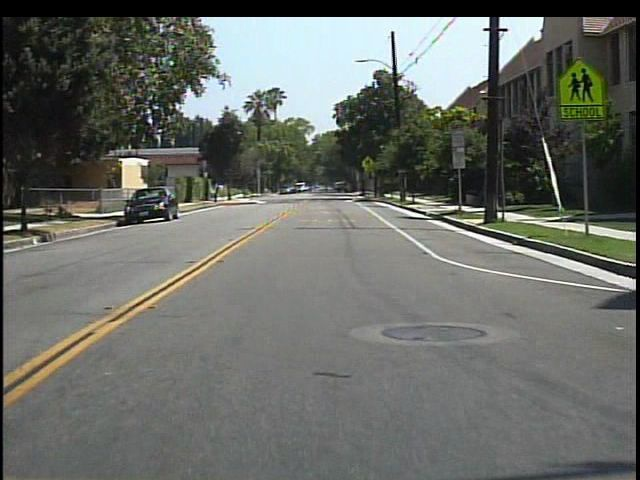person: (318, 179, 333, 196)
